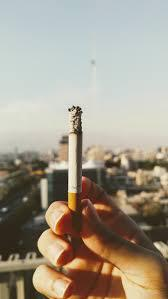smoke: (68, 104, 83, 232)
